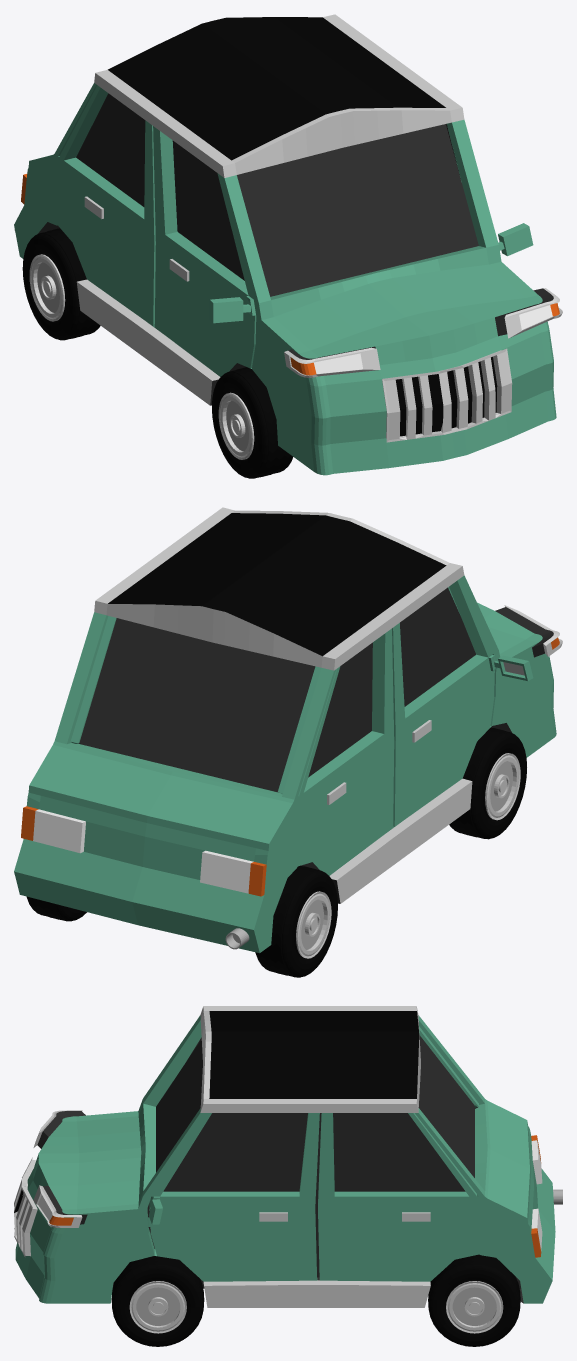
3 renders of one model, top to bottom at view 1: azimuth 30°, elevation 25°; view 2: azimuth 150°, elevation 25°; view 3: azimuth 270°, elevation 25°, orthographic. The views are drawn at different scales.
Parts seen in each view (by area): view 1: BODY39, WHEEL.001, WHEEL.004; view 2: BODY39, WHEEL.004, WHEEL.001, WHEEL.002; view 3: BODY39, WHEEL.002, WHEEL.003.
Part boxes in pixels (x1=…): BODY39: x1=14, y1=14, x2=562, y2=475; WHEEL.001: x1=212, y1=367, x2=292, y2=478; WHEEL.004: x1=22, y1=228, x2=100, y2=340; BODY39: x1=14, y1=507, x2=562, y2=953; WHEEL.004: x1=255, y1=865, x2=337, y2=977; WHEEL.001: x1=449, y1=727, x2=526, y2=839; WHEEL.002: x1=26, y1=896, x2=86, y2=921; BODY39: x1=14, y1=1006, x2=555, y2=1307; WHEEL.002: x1=428, y1=1254, x2=520, y2=1346; WHEEL.003: x1=111, y1=1256, x2=204, y2=1346.
Bounding box in the file's own units: 131 × 121 × 232.
